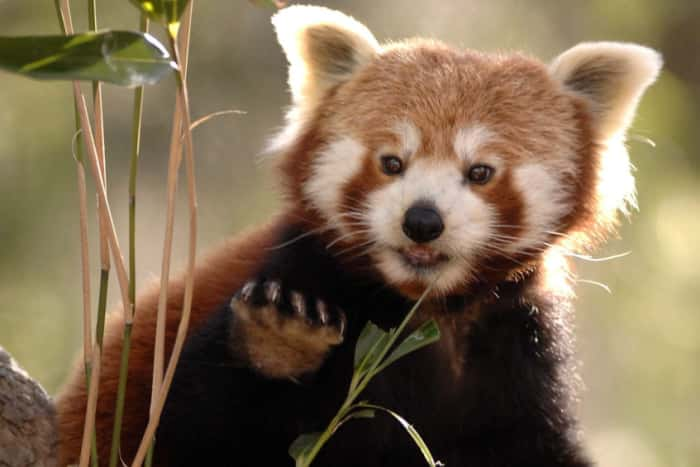red_panda: (62, 31, 658, 467)
